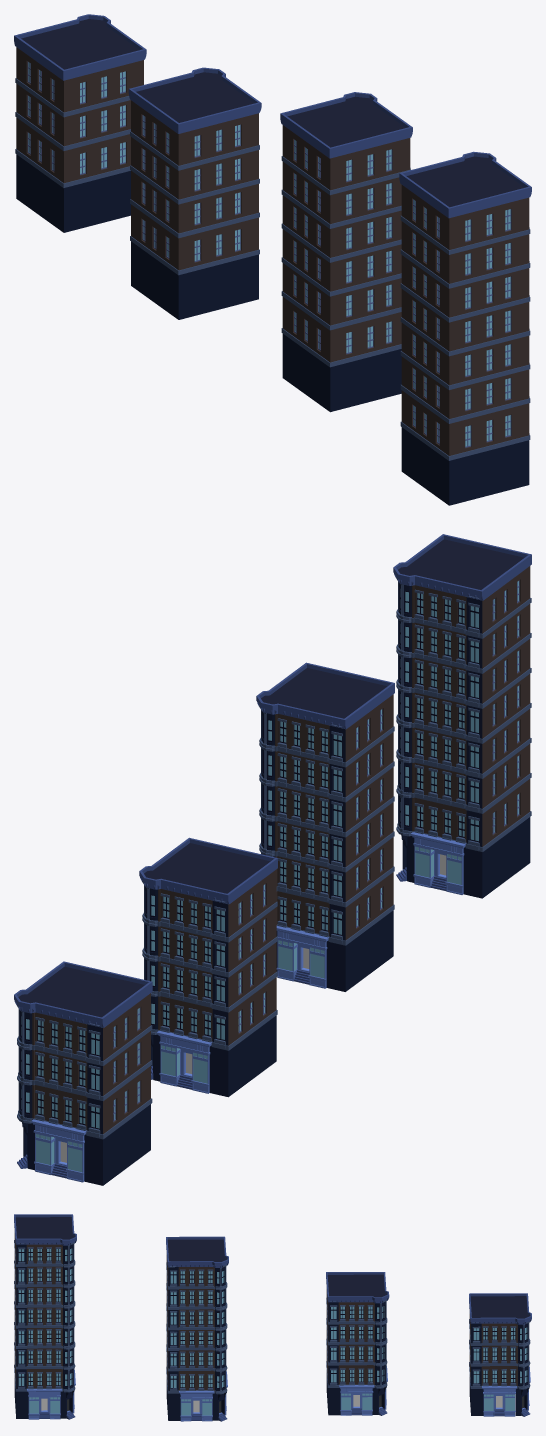
Rendered from CornerD_Tiles.fbx.
3 renders of one model, top to bottom at view 1: azimuth 30°, elevation 25°; view 2: azimuth 150°, elevation 25°; view 3: azimuth 270°, elevation 25°, orthographic. The views are drawn at different scales.
Visible parts, largest first — view 1: cornerD-High.002, cornerD-Mid.002, cornerD-Low.002, cornerD-VeryLow.002; view 2: cornerD-High.002, cornerD-Mid.002, cornerD-Low.002, cornerD-VeryLow.002; view 3: cornerD-High.002, cornerD-Mid.002, cornerD-Low.002, cornerD-VeryLow.002.
Part boxes in pixels (left/top/right/bottom): cornerD-High.002: left=399, top=151, right=531, bottom=505; cornerD-Mid.002: left=280, top=92, right=412, bottom=412; cornerD-Low.002: left=128, top=67, right=261, bottom=319; cornerD-VeryLow.002: left=14, top=14, right=146, bottom=232; cornerD-High.002: left=393, top=534, right=531, bottom=898; cornerD-Mid.002: left=256, top=662, right=394, bottom=991; cornerD-Low.002: left=139, top=837, right=277, bottom=1097; cornerD-VeryLow.002: left=14, top=961, right=152, bottom=1185; cornerD-High.002: left=14, top=1214, right=76, bottom=1419; cornerD-Mid.002: left=166, top=1236, right=228, bottom=1421; cornerD-Low.002: left=326, top=1272, right=389, bottom=1415; cornerD-VeryLow.002: left=469, top=1293, right=531, bottom=1416.
Bounding box in the file's own units: 20.98 × 55.48 × 145.
